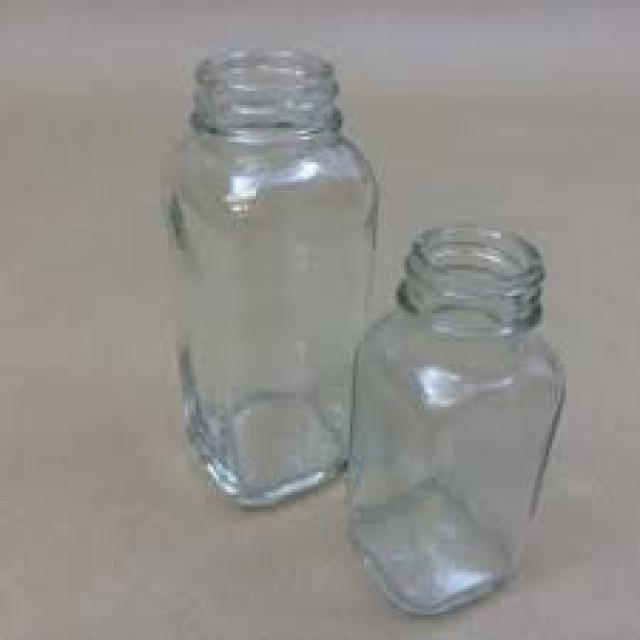glass: (162, 46, 378, 507), (347, 222, 563, 609)
